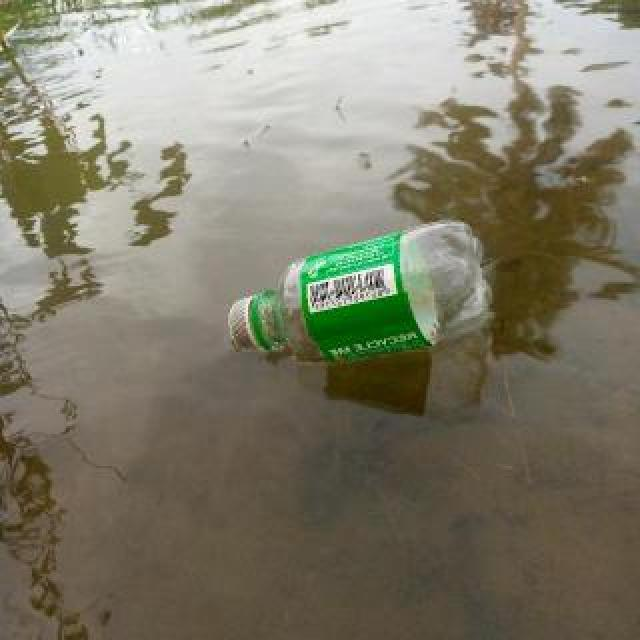Bottle: (218, 216, 502, 374)
